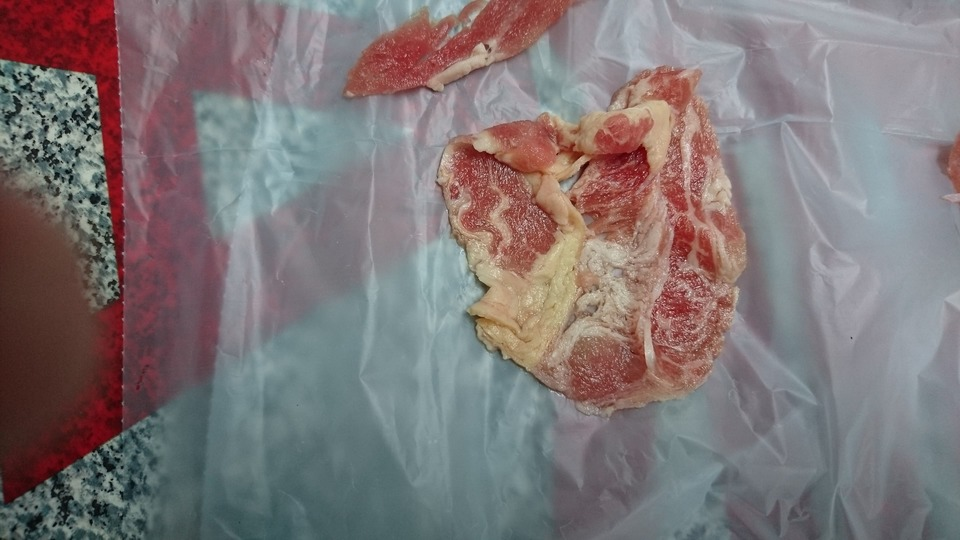restructured meat: (427, 84, 756, 412)
